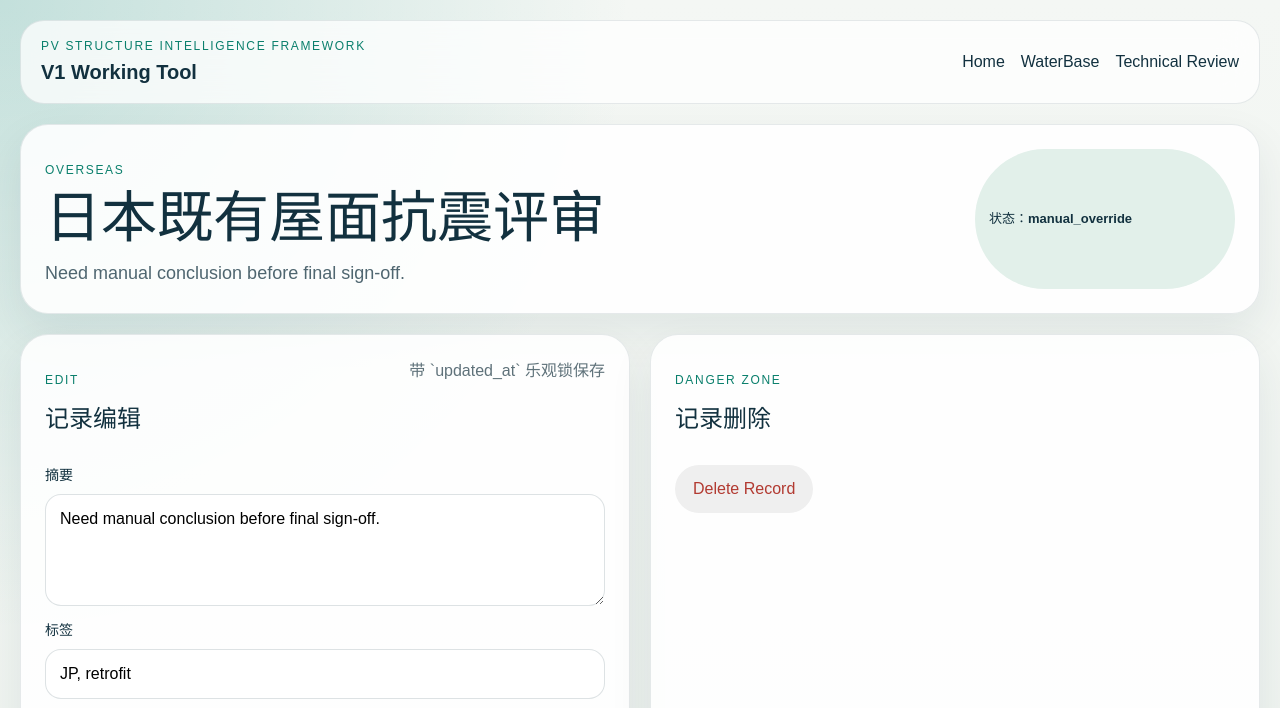
Test: V1 Working Tool App › updates editable fields on the record detail page
This screenshot has width=1280, height=708.
Replace the text in the text box labelled "摘要" with "人工复核后，建议带条件进入专项技术评审。" at (325, 550), box [45,494,605,606]
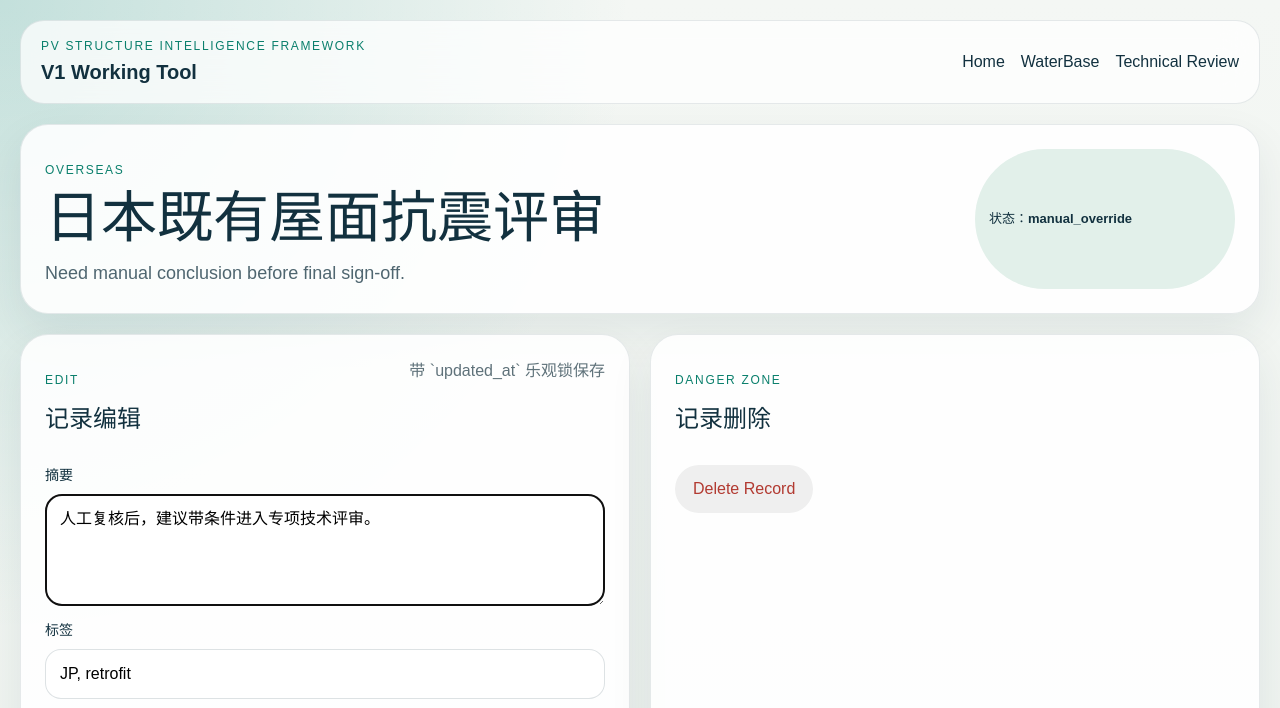
Replace the text in the field labelled "标签" with "JP, retrofit, edited" at (325, 674), box [45,649,605,699]
(page scrolled)
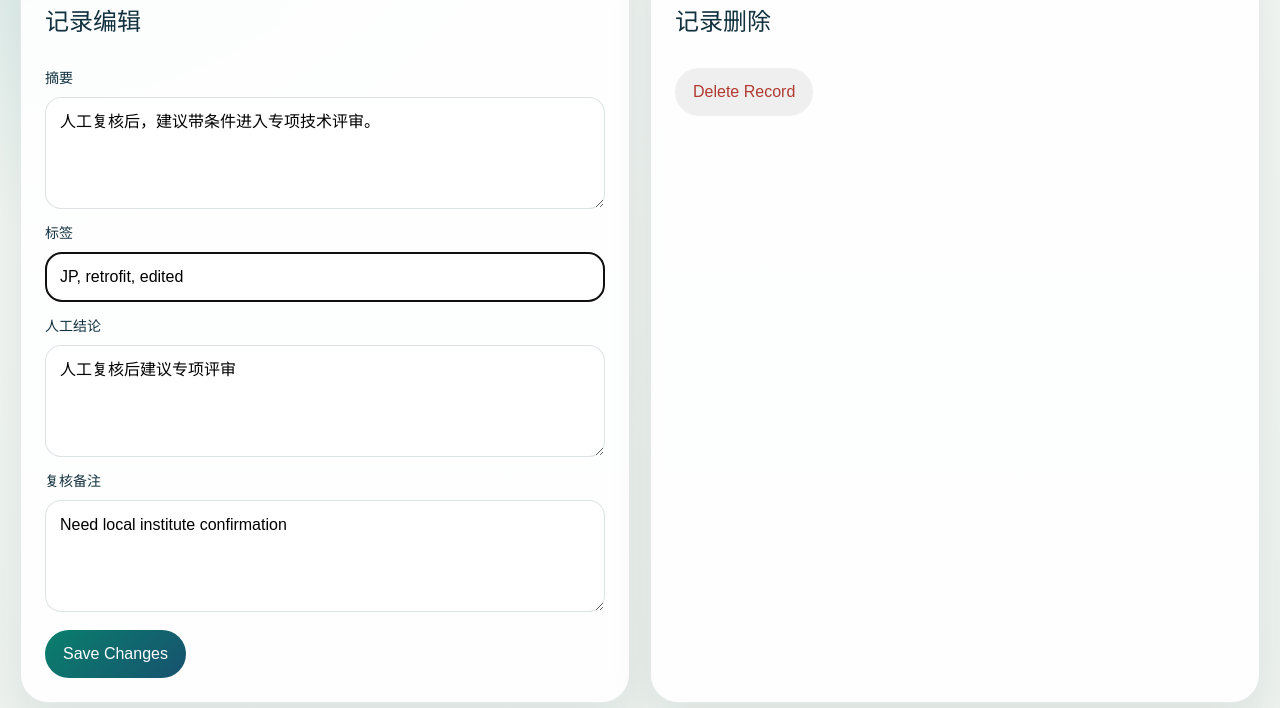
Replace the text in the text box labelled "人工结论" with "人工复核后建议带条件专项评审" at (325, 401), box [45,345,605,457]
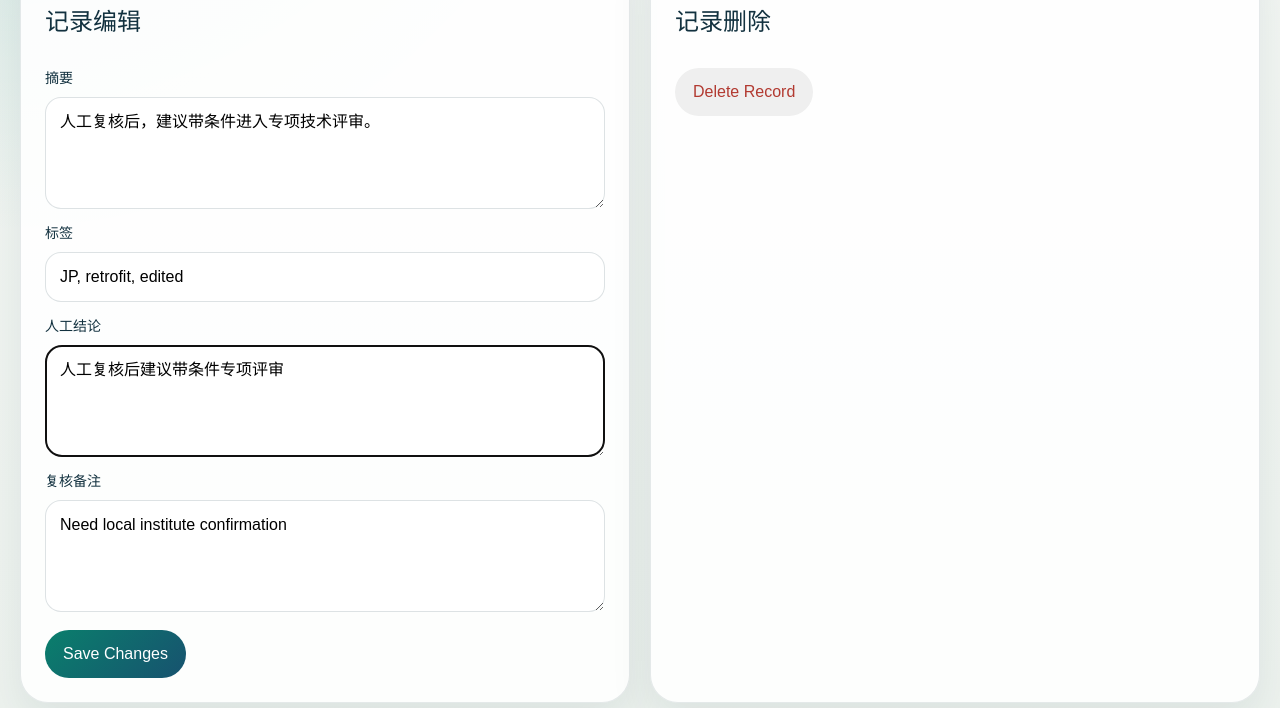
Replace the text in the text box labelled "复核备注" with "Need local institute seismic memo" at (325, 556), box [45,500,605,612]
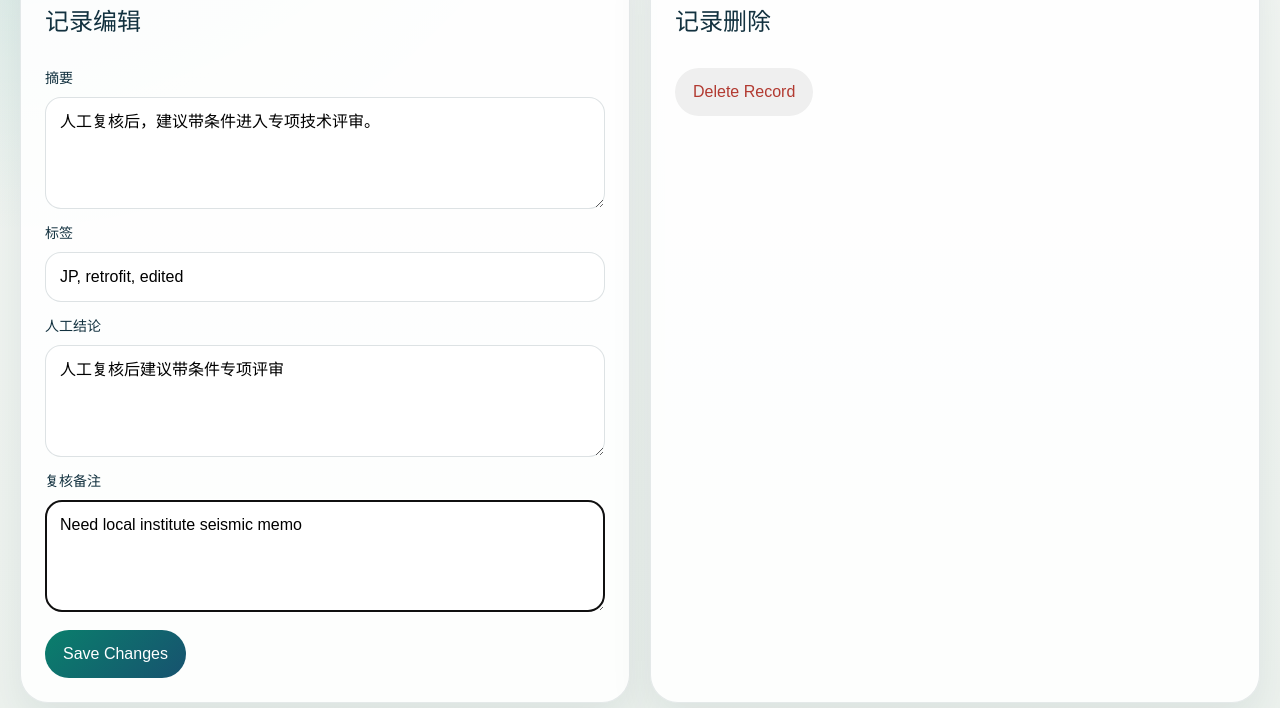
Click the button "Save Changes" at (116, 654), box [45,630,186,678]
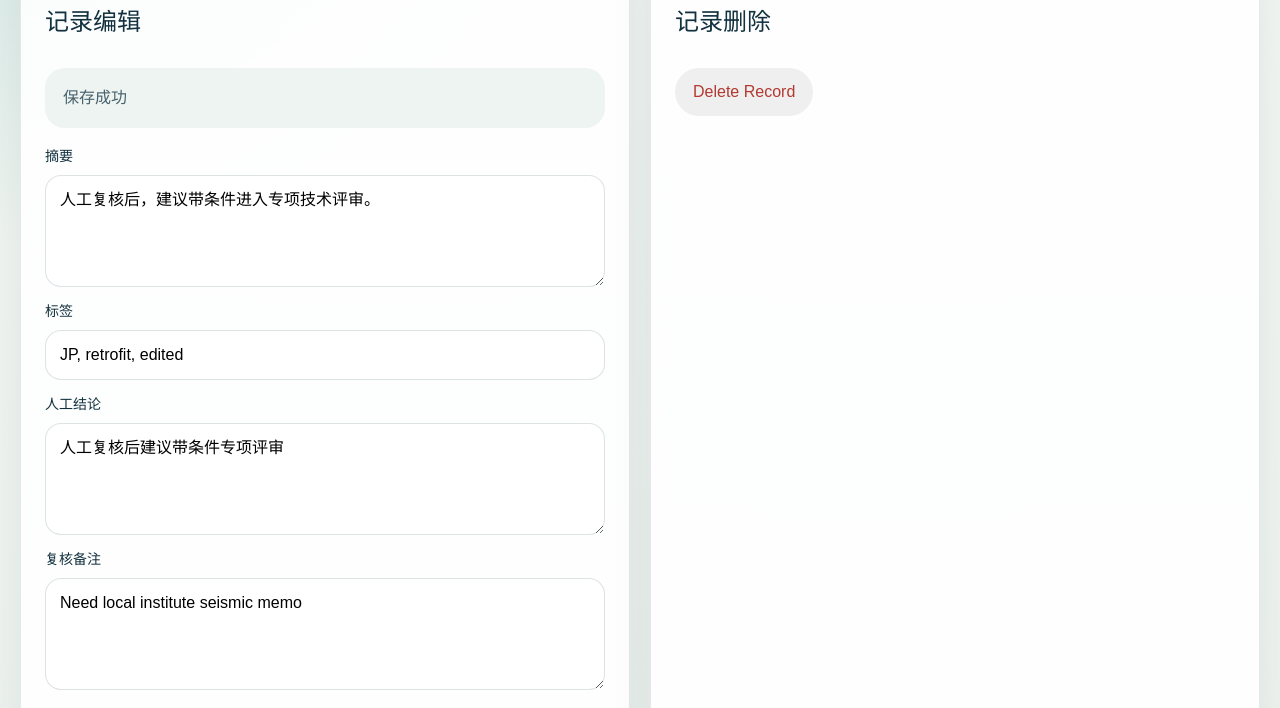
Expected: the text box showing "人工复核后，建议带条件进入专项技术评审。" is shown, [45,175,605,287]
Expected: the text "保存成功" is shown, [45,68,605,128]
